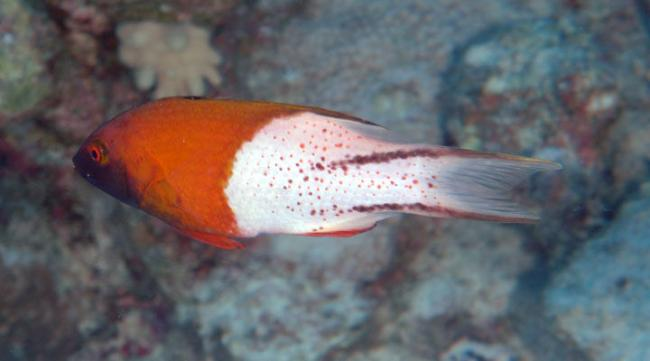fish: (71, 95, 564, 250)
